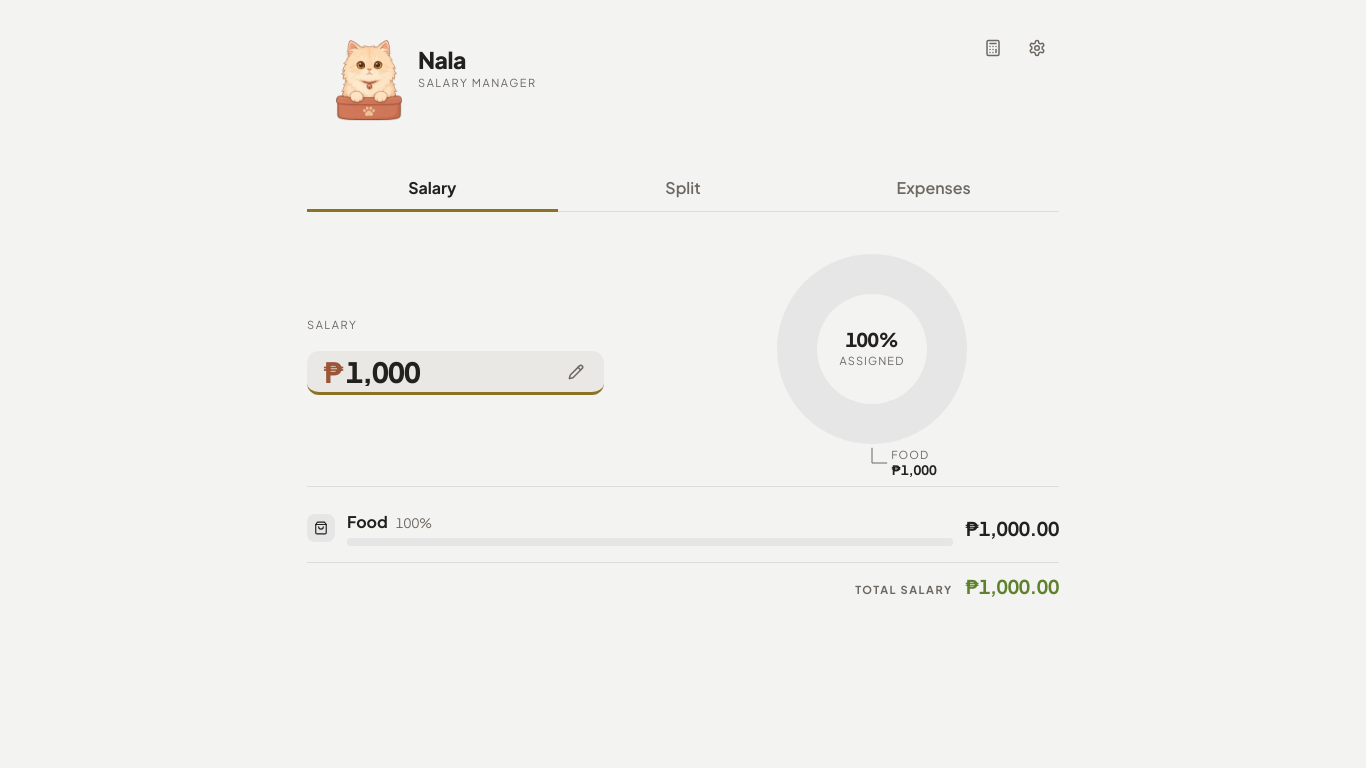
Test: salary edits and paydays › deletes a past payday after confirming
Click the tab "Expenses" at (934, 190), box [808,168,1059,212]
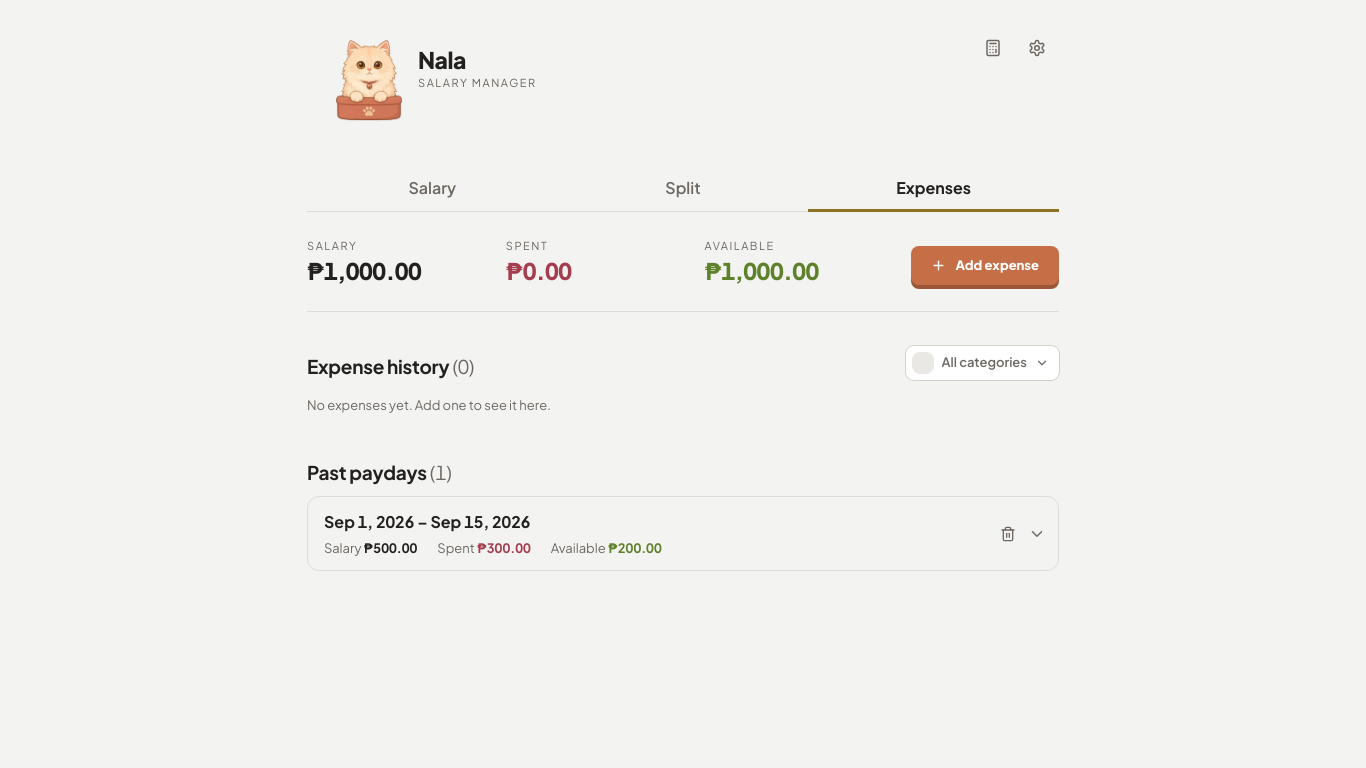
Click the button named "Delete payday" at (1008, 534), box [986,512,1030,556]
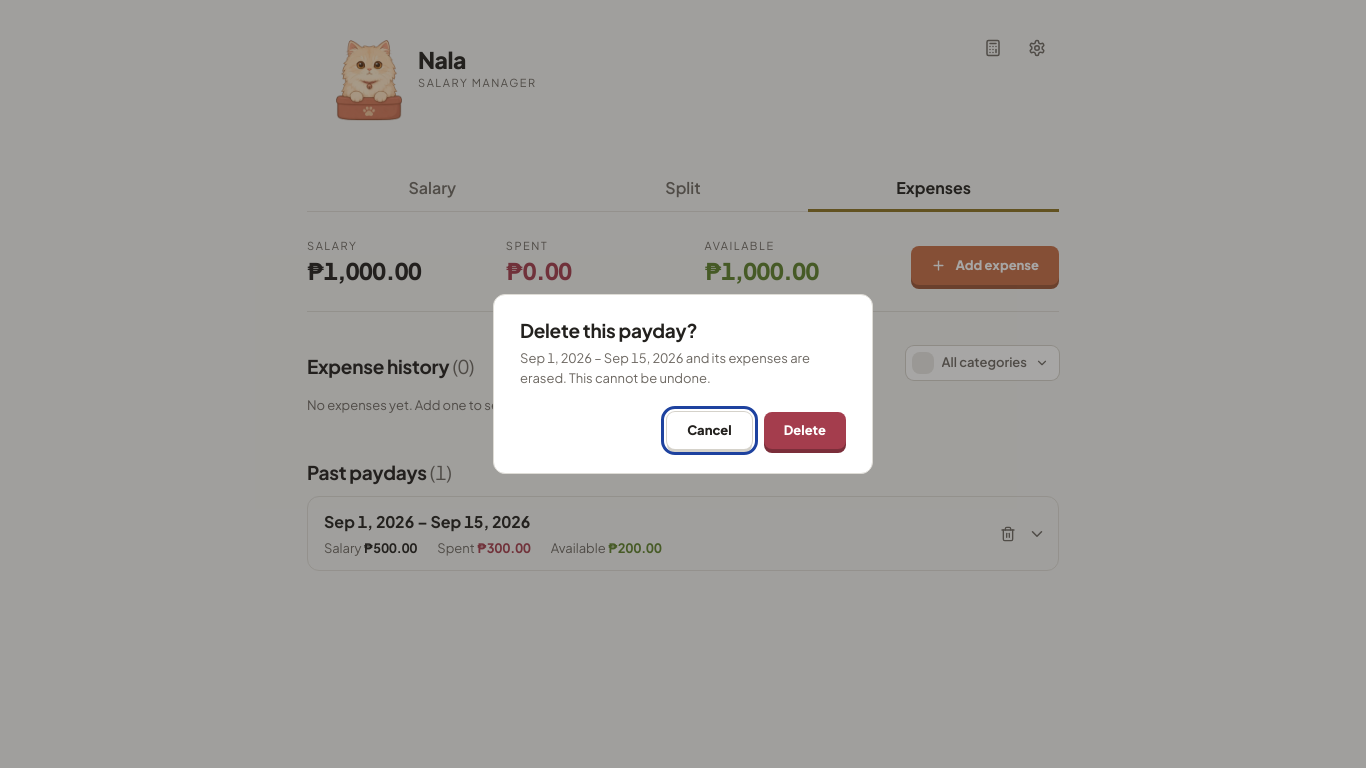
Click the button "Delete" at (805, 431), box [764,412,846,449]
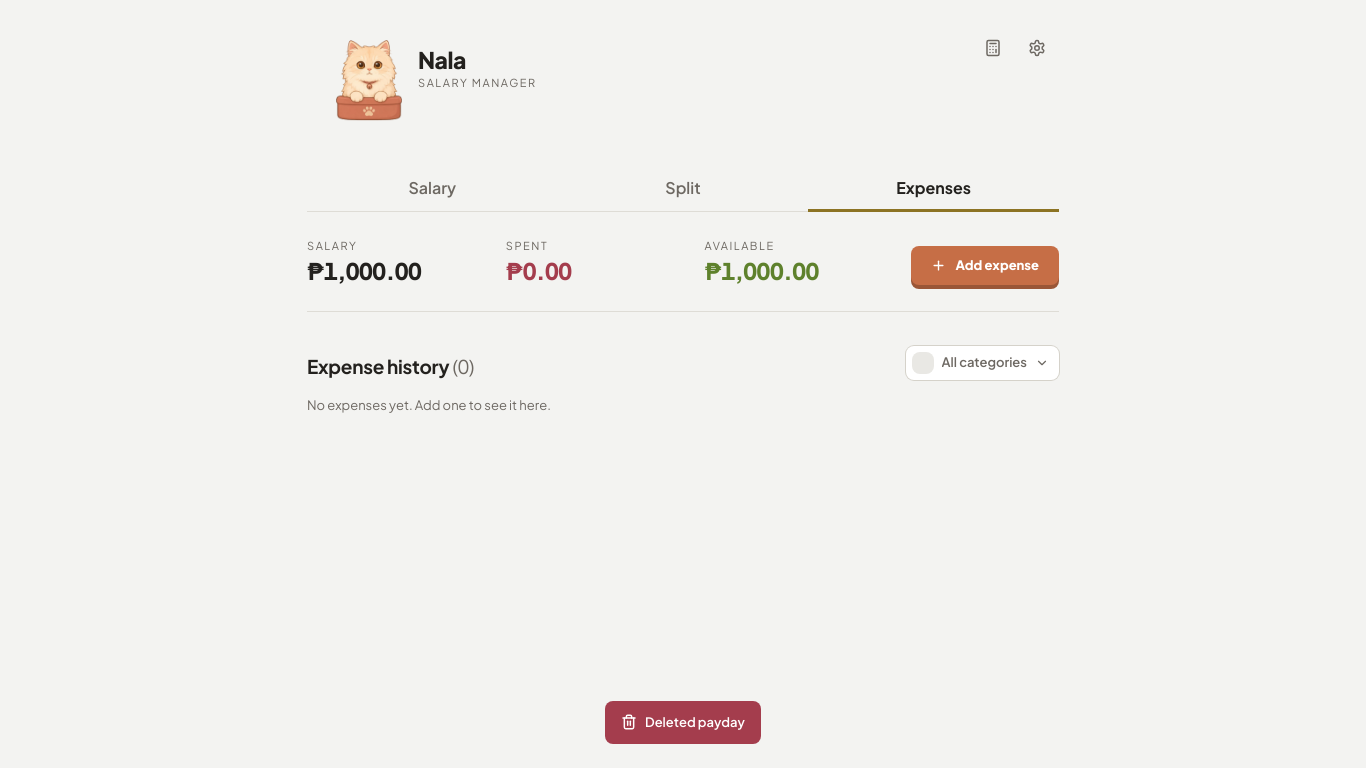
Expected: the heading "Past paydays" is gone
